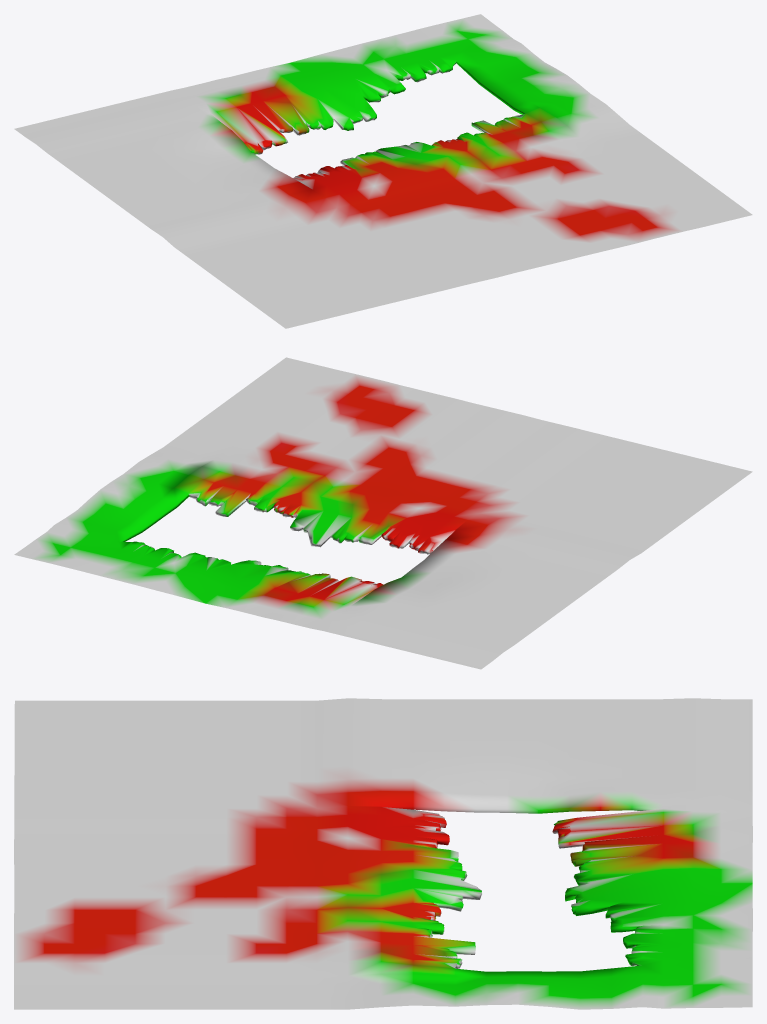
File: SM_LargeRoomFloor.fbx
3 views of the same model, one above another, from view 1: azimuth 30°, elevation 25°; view 2: azimuth 150°, elevation 25°; view 3: azimuth 270°, elevation 25° (orthographic). The views are drawn at different scales.
Visible parts, largest first — view 1: Room_Floor; view 2: Room_Floor; view 3: Room_Floor.
Boxes of the visible parts, x1=… form: Room_Floor: x1=14, y1=14, x2=752, y2=328; Room_Floor: x1=14, y1=357, x2=752, y2=669; Room_Floor: x1=14, y1=698, x2=752, y2=1009.
Bounding box in the file's own units: 604 × 24.28 × 610.
